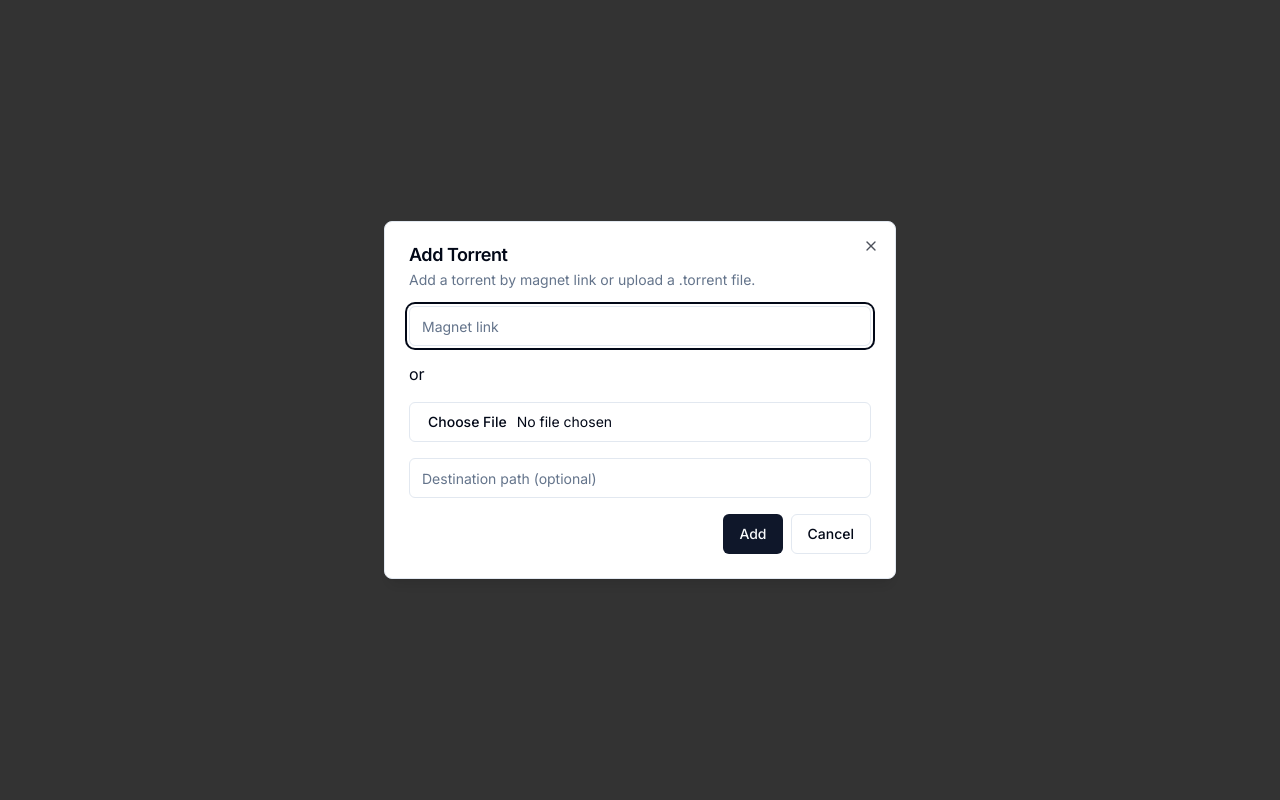
AddTorrentDialog › disables Add while a request is in flight
This screenshot has width=1280, height=800.
Type "magnet:?xt=urn:btih:0123456789abcdef0123456789abcdef01234567" into the field with placeholder "Magnet link". click: coordinates (640, 326)
box: 409,306 -> 871,346
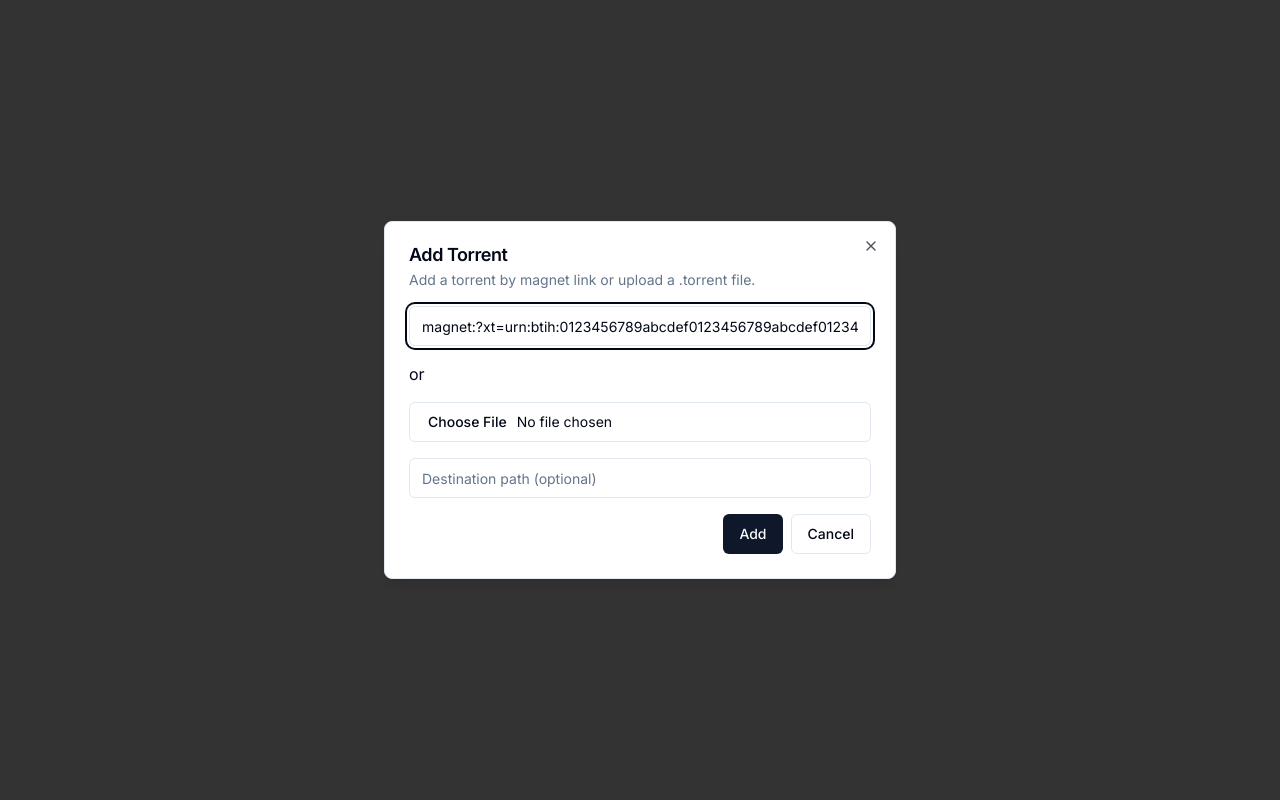
Click the button "Add". click: coordinates (753, 534)
box: 723,514 -> 782,554
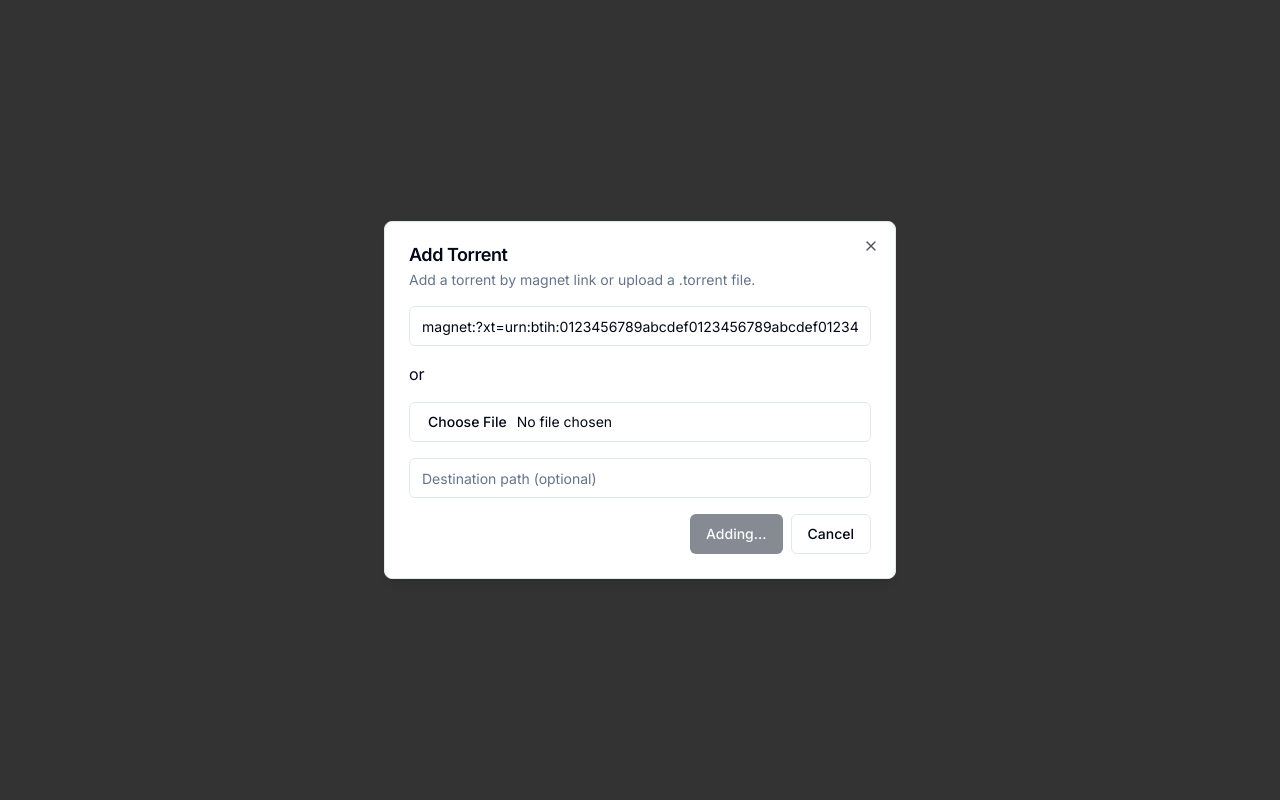
Expected: the button "Adding..." is shown
Expected: the button "Adding..." is disabled
Click the button "Adding...". click: coordinates (736, 534)
box: 690,514 -> 782,554
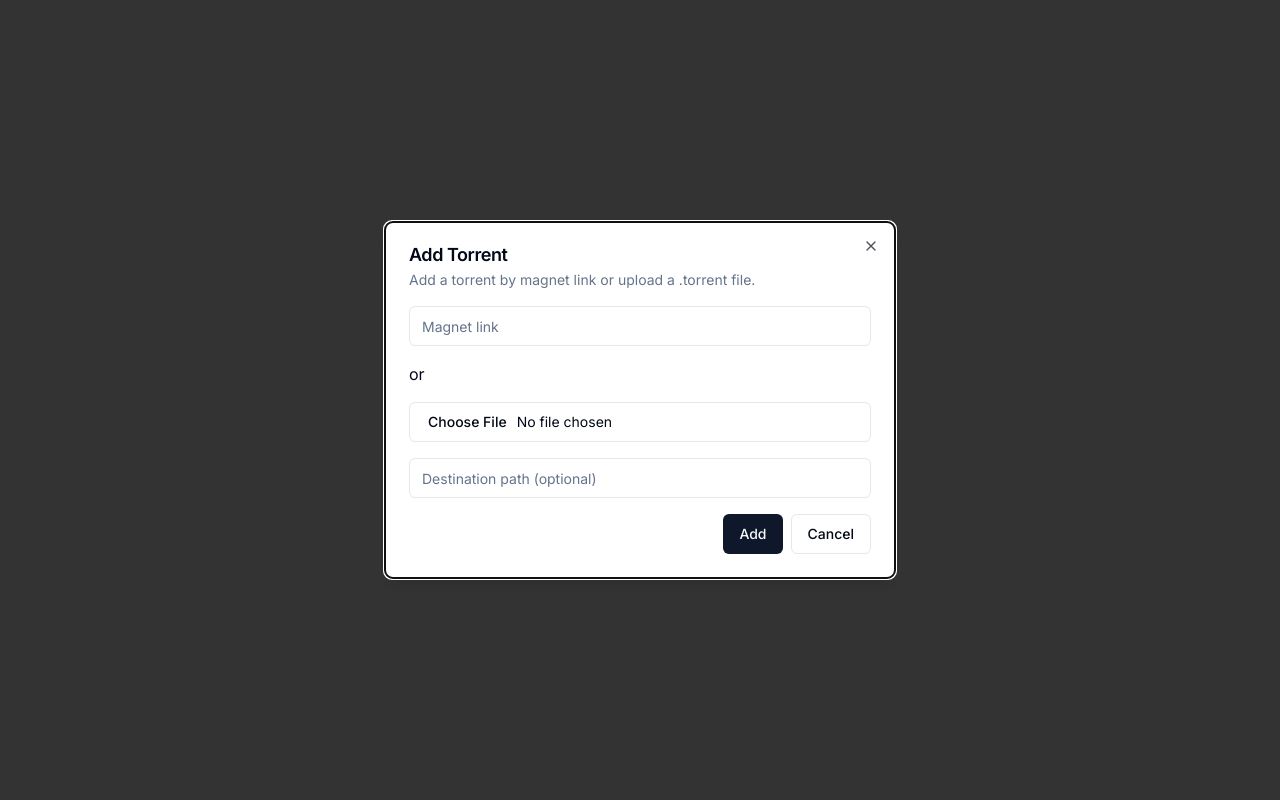
Expected: the button "Add" is shown, 723,514 -> 782,554
